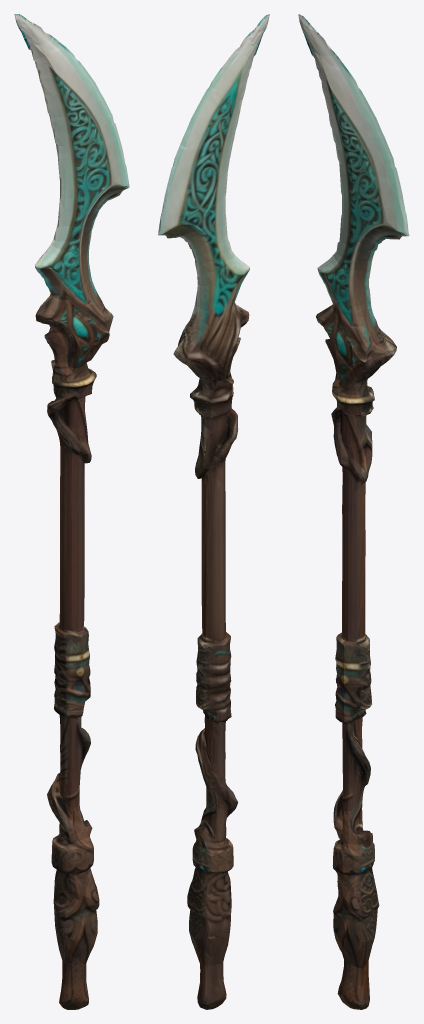
File: Fang_of_the_Firstborn_0409055133_texture.fbx
3 renders of one model, left to right at view 1: azimuth 30°, elevation 25°; view 2: azimuth 210°, elevation 25°; view 3: azimuth 330°, elevation 25°, orthographic. The views are drawn at different scales.
Parts seen in each view (by area): view 1: temp; view 2: temp; view 3: temp.
Part boxes in pixels (bbox=[...]): temp: bbox=[14, 14, 129, 1009]; temp: bbox=[158, 14, 269, 1009]; temp: bbox=[298, 14, 409, 1009].
Size of the model in its own units: 23.7 by 199 by 9.74.
1 material, 1 textured.
